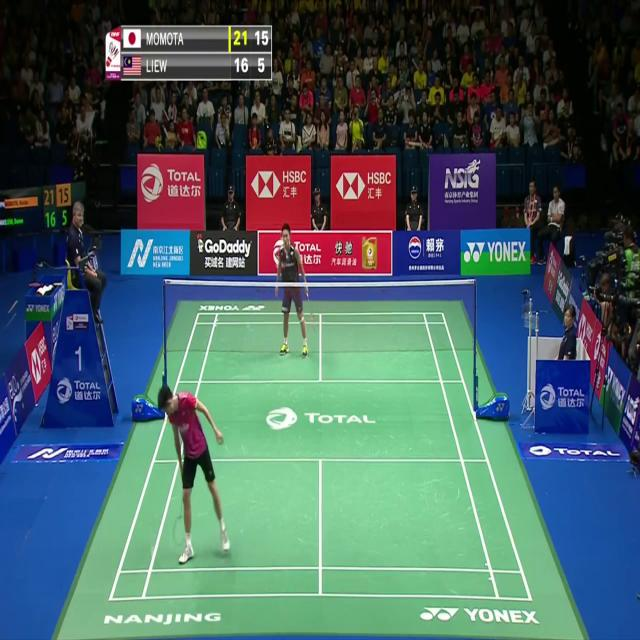Shuttlecock: (149, 549, 155, 560)
